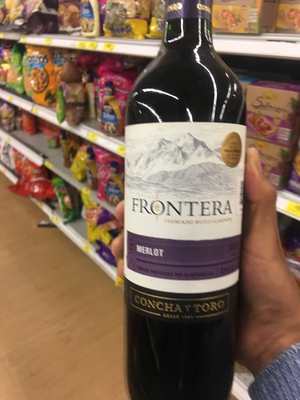frontera merlot: (118, 14, 254, 400)
